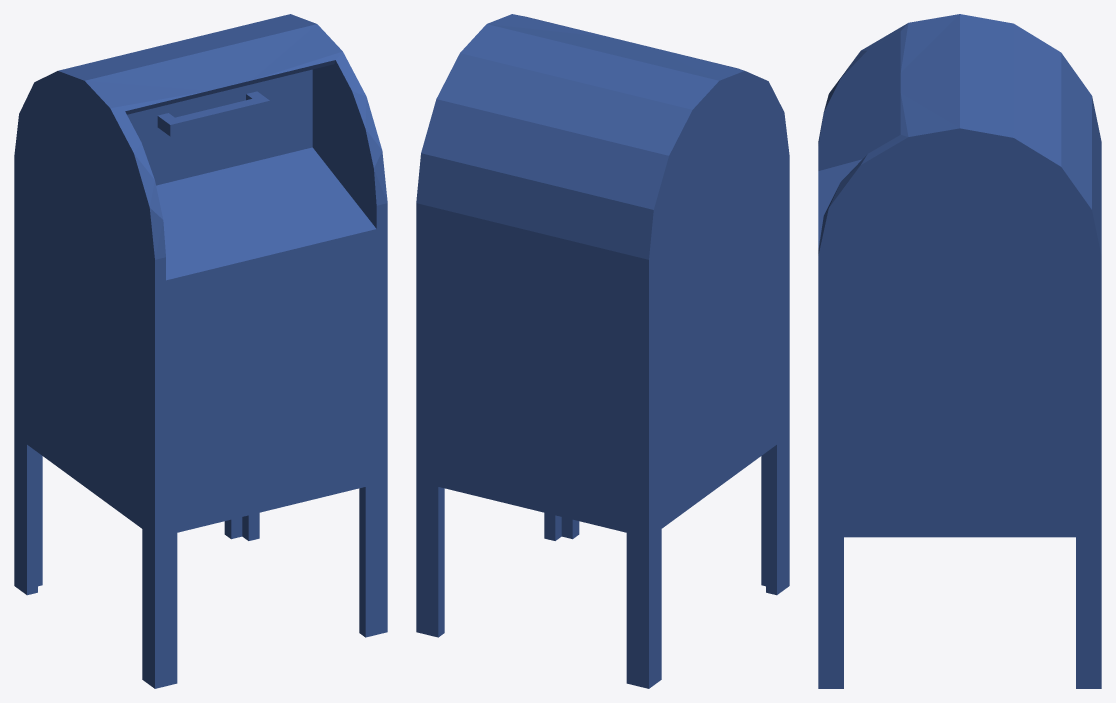
File: USPS-mailbox.glb
The picture shows the model from 3 angles, left to right: view 1: azimuth 30°, elevation 25°; view 2: azimuth 150°, elevation 25°; view 3: azimuth 270°, elevation 25°; orthographic projection.
Parts seen in each view (by area): view 1: USPS-mailbox; view 2: USPS-mailbox; view 3: USPS-mailbox.
Boxes of the visible parts, left/top/right/bottom form: USPS-mailbox: left=14, top=14, right=387, bottom=688; USPS-mailbox: left=416, top=14, right=789, bottom=688; USPS-mailbox: left=818, top=14, right=1101, bottom=688.
Bounding box in the file's own units: 0.5357 × 1.22 × 0.5612.
Materials: 1 (1 with a texture image).
